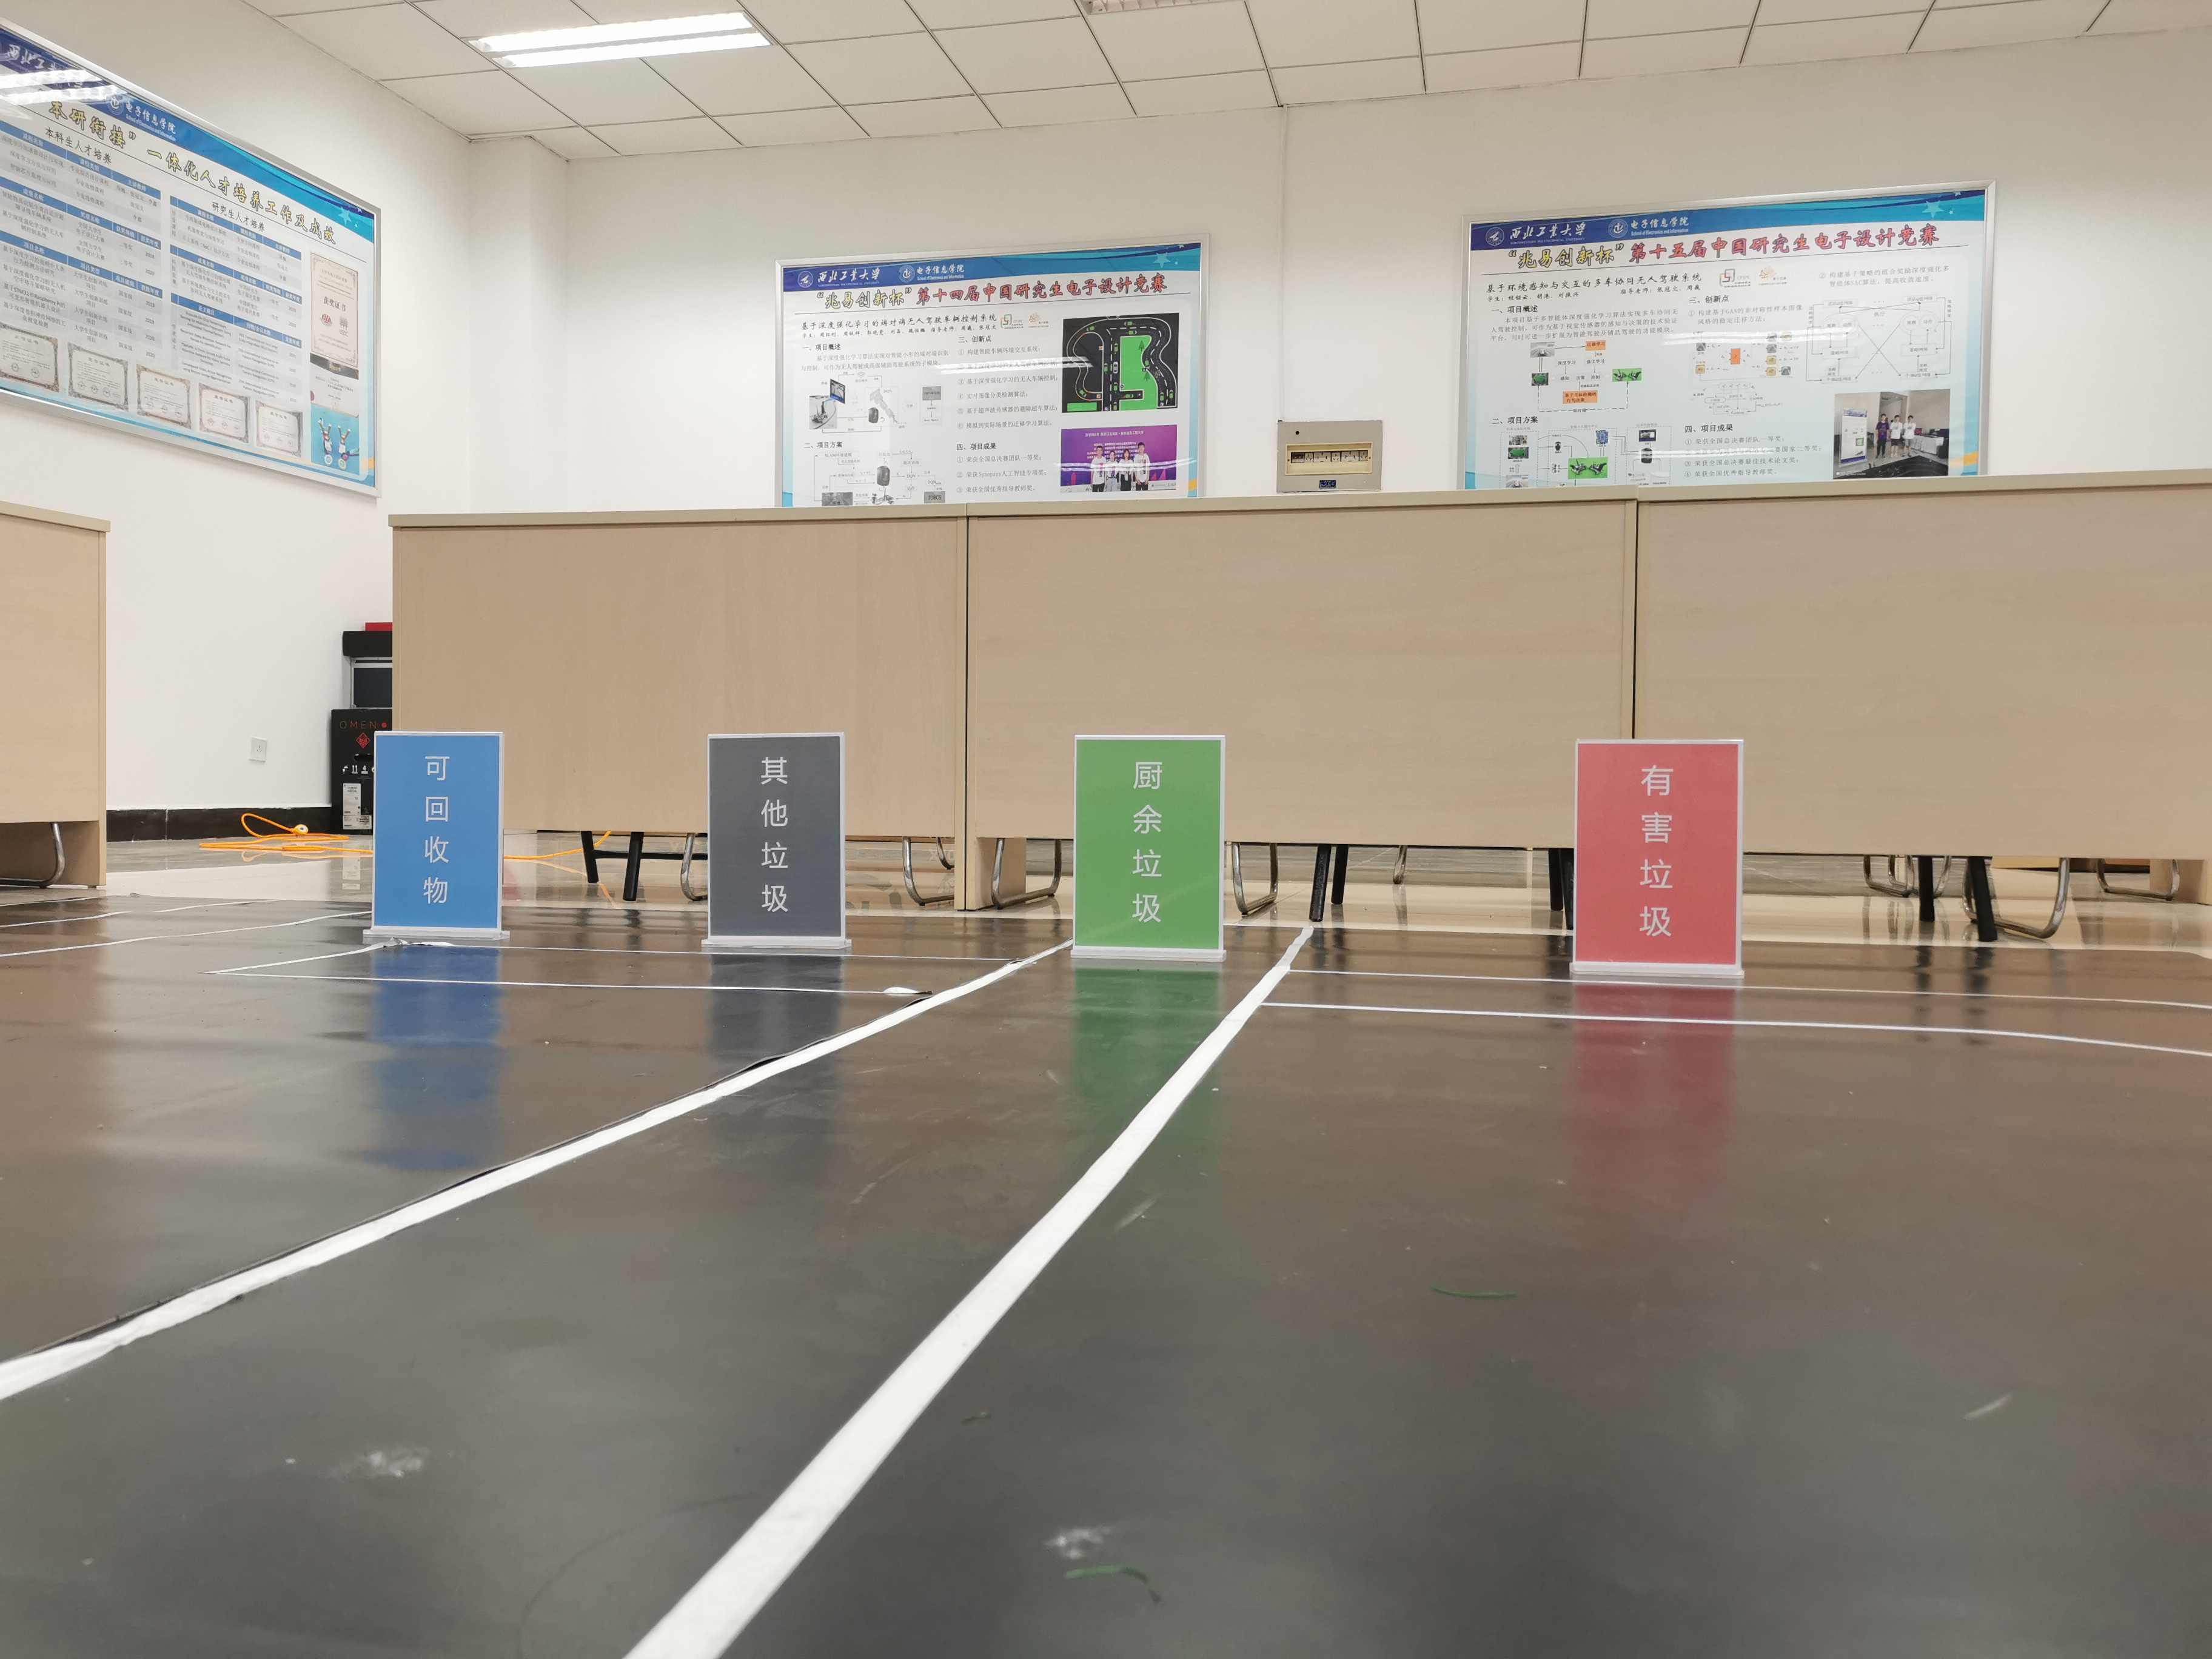black: (714, 742, 838, 932)
blue: (380, 744, 498, 922)
green: (1082, 744, 1216, 945)
red: (1583, 751, 1731, 960)
